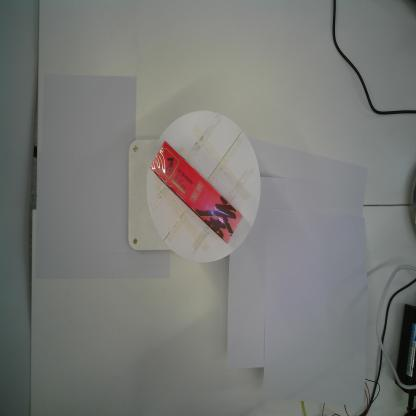Instant Drink: (149, 140, 243, 244)
